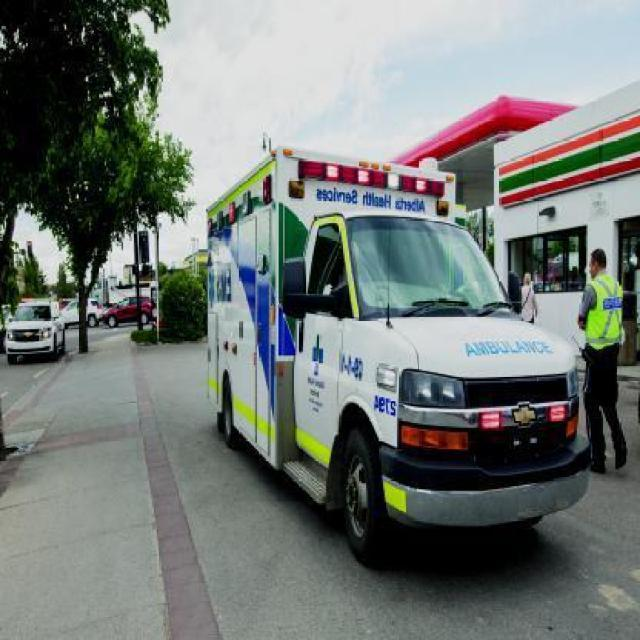emergency: (202, 134, 594, 566)
